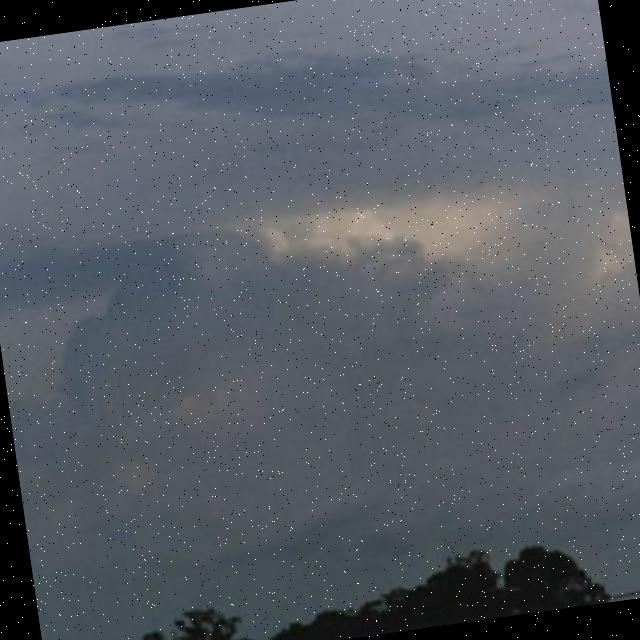St: (1, 28, 640, 537)
